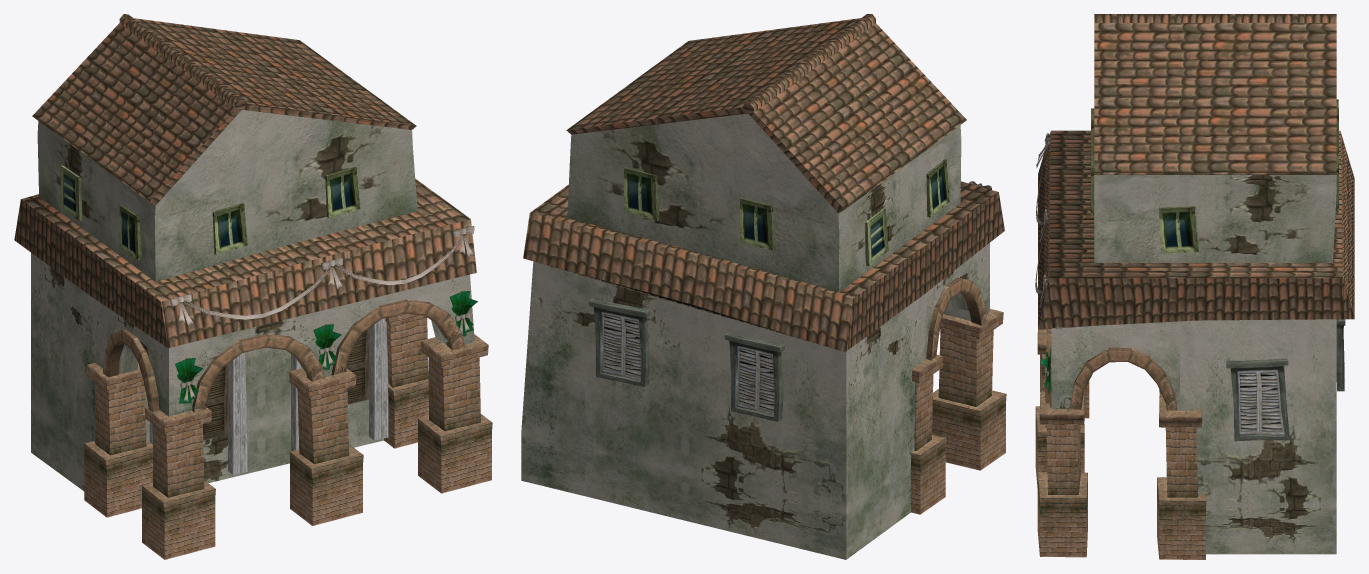
The model's file is spanish_npc_house_a_exterior.fbx.
The picture shows the model from 3 angles, left to right: view 1: azimuth 30°, elevation 25°; view 2: azimuth 150°, elevation 25°; view 3: azimuth 270°, elevation 25°; orthographic projection. The views are drawn at different scales.
Parts seen in each view (by area): view 1: building_upstairs, roof_peaked, roof_flat, building_downstairs, BrickColumnMoss27, BrickColumnMoss26, BrickColumnMoss25, BrickColumnMoss29, BrickColumnMoss28, door_frame_2, Arch3, Arch6 (+10 smaller); view 2: building_downstairs, roof_peaked, building_upstairs, roof_flat, BrickColumnMoss25, win_rect_s5_win_frame1, win_rect_s5_win_frame2, BrickColumnMoss29, Arch7, window58, window59, window57 (+2 smaller); view 3: roof_peaked, building_downstairs, roof_flat, building_upstairs, BrickColumnMoss27, BrickColumnMoss28, win_rect_s5_win_frame, Arch8, window55, BrickColumnMoss26, win_rect_s5_win_frame1.
Part boxes in pixels (left/top/right/bottom): building_upstairs: left=37, top=110, right=417, bottom=281; roof_peaked: left=32, top=14, right=416, bottom=205; roof_flat: left=14, top=179, right=476, bottom=347; building_downstairs: left=31, top=253, right=474, bottom=491; BrickColumnMoss27: left=418, top=334, right=492, bottom=493; BrickColumnMoss26: left=289, top=368, right=363, bottom=525; BrickColumnMoss25: left=142, top=406, right=215, bottom=559; BrickColumnMoss29: left=84, top=363, right=152, bottom=517; BrickColumnMoss28: left=384, top=313, right=428, bottom=448; door_frame_2: left=291, top=318, right=388, bottom=451; Arch3: left=331, top=299, right=464, bottom=375; Arch6: left=192, top=333, right=324, bottom=412; building_downstairs: left=521, top=243, right=989, bottom=559; roof_peaked: left=566, top=14, right=966, bottom=212; building_upstairs: left=567, top=113, right=961, bottom=292; roof_flat: left=523, top=181, right=1004, bottom=351; BrickColumnMoss25: left=932, top=309, right=1006, bottom=470; win_rect_s5_win_frame1: left=588, top=298, right=650, bottom=386; win_rect_s5_win_frame2: left=724, top=332, right=784, bottom=421; BrickColumnMoss29: left=911, top=354, right=946, bottom=514; Arch7: left=926, top=277, right=986, bottom=360; window58: left=624, top=167, right=659, bottom=220; window59: left=740, top=198, right=775, bottom=250; window57: left=865, top=208, right=888, bottom=266; roof_peaked: left=1094, top=14, right=1336, bottom=174; building_downstairs: left=1051, top=319, right=1336, bottom=554; roof_flat: left=1038, top=130, right=1354, bottom=329; building_upstairs: left=1094, top=175, right=1336, bottom=262; BrickColumnMoss27: left=1037, top=391, right=1087, bottom=557; BrickColumnMoss28: left=1157, top=394, right=1206, bottom=559; win_rect_s5_win_frame: left=1226, top=358, right=1289, bottom=441; Arch8: left=1070, top=347, right=1177, bottom=410; window55: left=1159, top=206, right=1199, bottom=253; BrickColumnMoss26: left=1035, top=329, right=1084, bottom=487; win_rect_s5_win_frame1: left=1336, top=319, right=1345, bottom=391.
Size of the model in its own units: 3904 by 4638 by 3125.
Materials: 3 (3 with a texture image).
